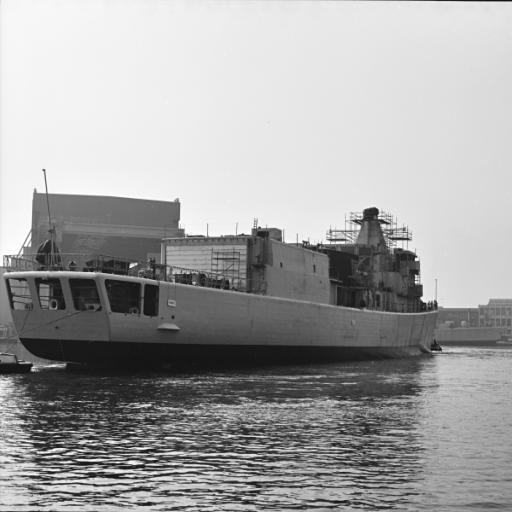Fragata: (10, 186, 440, 366)
